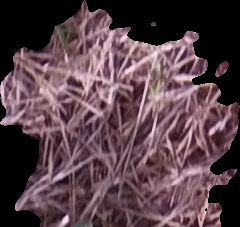soil: (1, 1, 239, 227)
